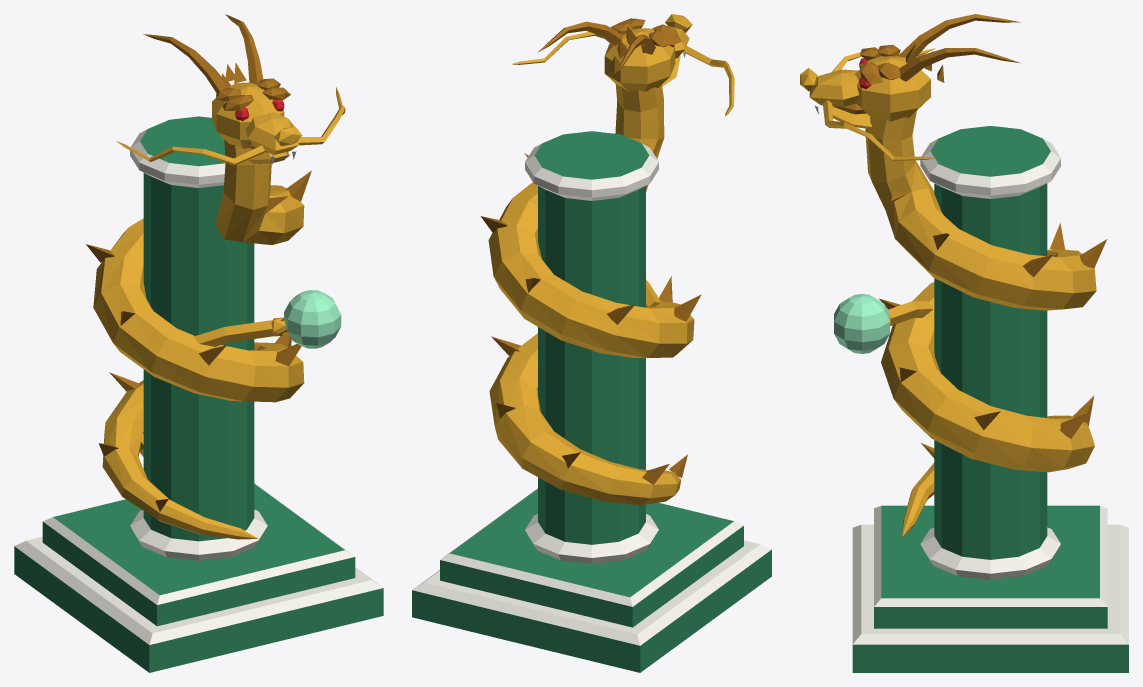
Rendered from dragon-pillar.glb.
3 renders of one model, left to right at view 1: azimuth 30°, elevation 25°; view 2: azimuth 150°, elevation 25°; view 3: azimuth 270°, elevation 25°, orthographic. The views are drawn at different scales.
Visible parts, largest first — view 1: Pillar, Dragon, Trim, DragonDark, Glow; view 2: Pillar, Dragon, Trim, DragonDark; view 3: Pillar, Dragon, Trim, DragonDark, Glow.
Boxes of the visible parts, bbox=[...] form: Pillar: bbox=[14, 116, 383, 672]; Dragon: bbox=[93, 82, 345, 539]; Trim: bbox=[14, 129, 383, 644]; DragonDark: bbox=[86, 14, 311, 511]; Glow: bbox=[284, 290, 341, 348]; Pillar: bbox=[412, 131, 771, 672]; Dragon: bbox=[488, 14, 734, 505]; Trim: bbox=[412, 51, 771, 645]; DragonDark: bbox=[480, 18, 701, 484]; Pillar: bbox=[852, 126, 1128, 672]; Dragon: bbox=[800, 48, 1096, 536]; Trim: bbox=[815, 106, 1128, 644]; DragonDark: bbox=[834, 14, 1107, 458]; Glow: bbox=[834, 294, 889, 353].
Size of the model in its own units: 4.4 by 10.25 by 5.24.
